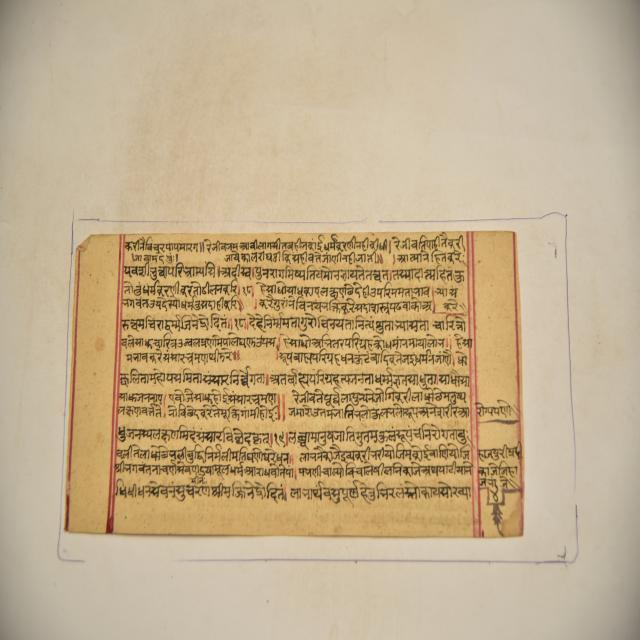text_paragraph: (63, 229, 525, 535)
